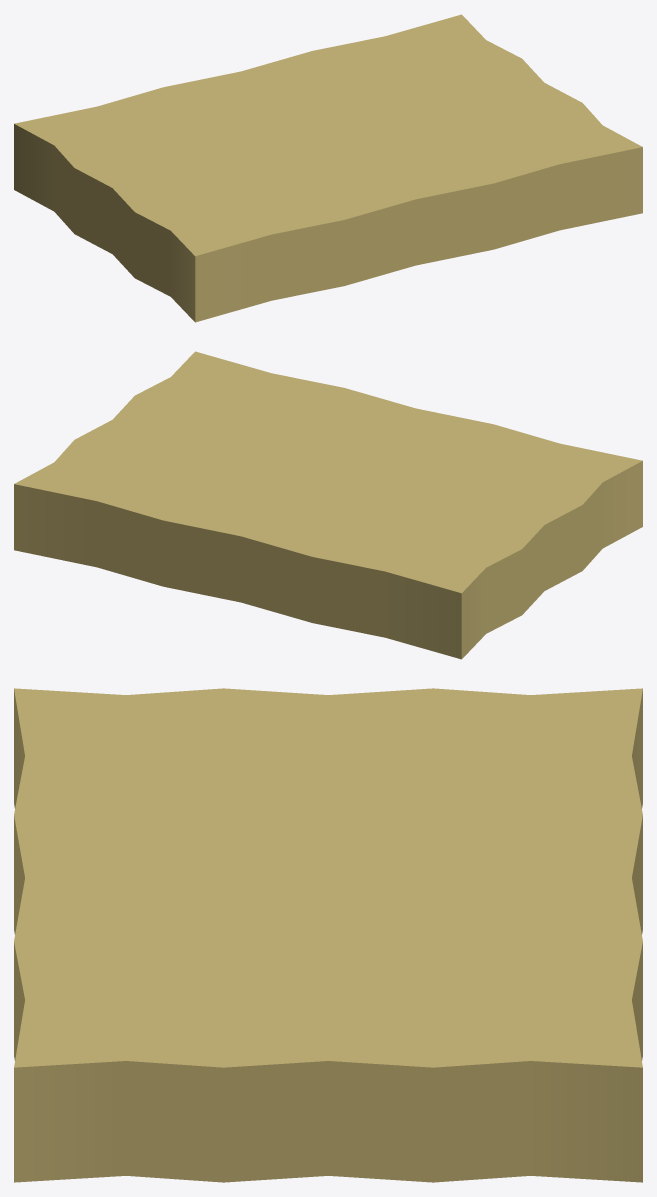
File: keks.fbx
3 renders of one model, top to bottom at view 1: azimuth 30°, elevation 25°; view 2: azimuth 150°, elevation 25°; view 3: azimuth 270°, elevation 25°, orthographic. The views are drawn at different scales.
Visible parts, largest first — view 1: pCube13; view 2: pCube13; view 3: pCube13.
Part boxes in pixels (x1=…): pCube13: x1=14, y1=14, x2=642, y2=322; pCube13: x1=14, y1=351, x2=642, y2=659; pCube13: x1=14, y1=688, x2=642, y2=1182.
Bounding box in the file's own units: 11.36 × 1.6 × 7.96.
